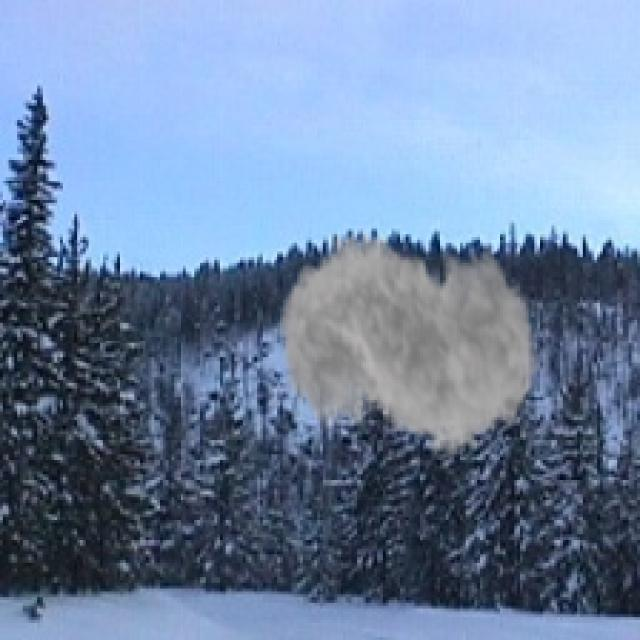smoke: (277, 203, 540, 477)
